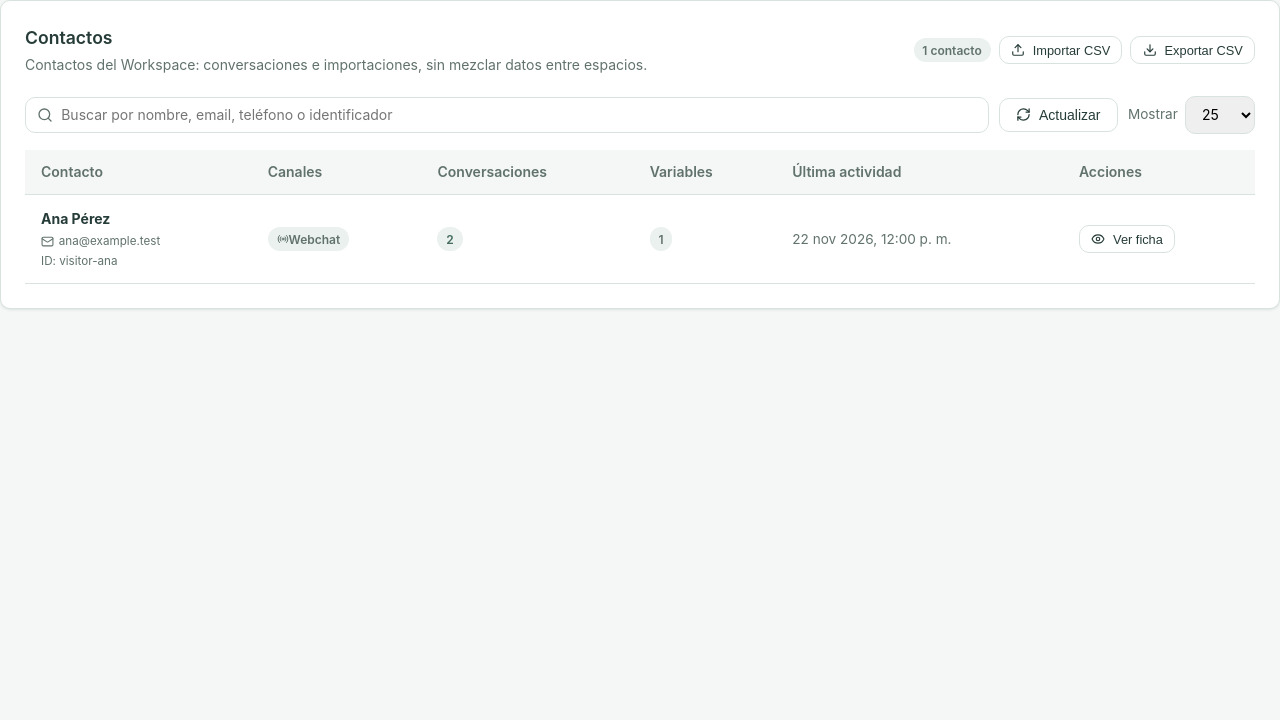
Scenario: ContactDirectoryView › lists contacts and opens the read-only profile
The width and height of the screenshot is (1280, 720).
expect the text "Ana Pérez" is shown: met, box [41, 210, 110, 227]
expect the text "Webchat" is shown: met, box [268, 228, 349, 251]
Click the button "Ver ficha" at (1127, 239), box [1079, 225, 1175, 253]
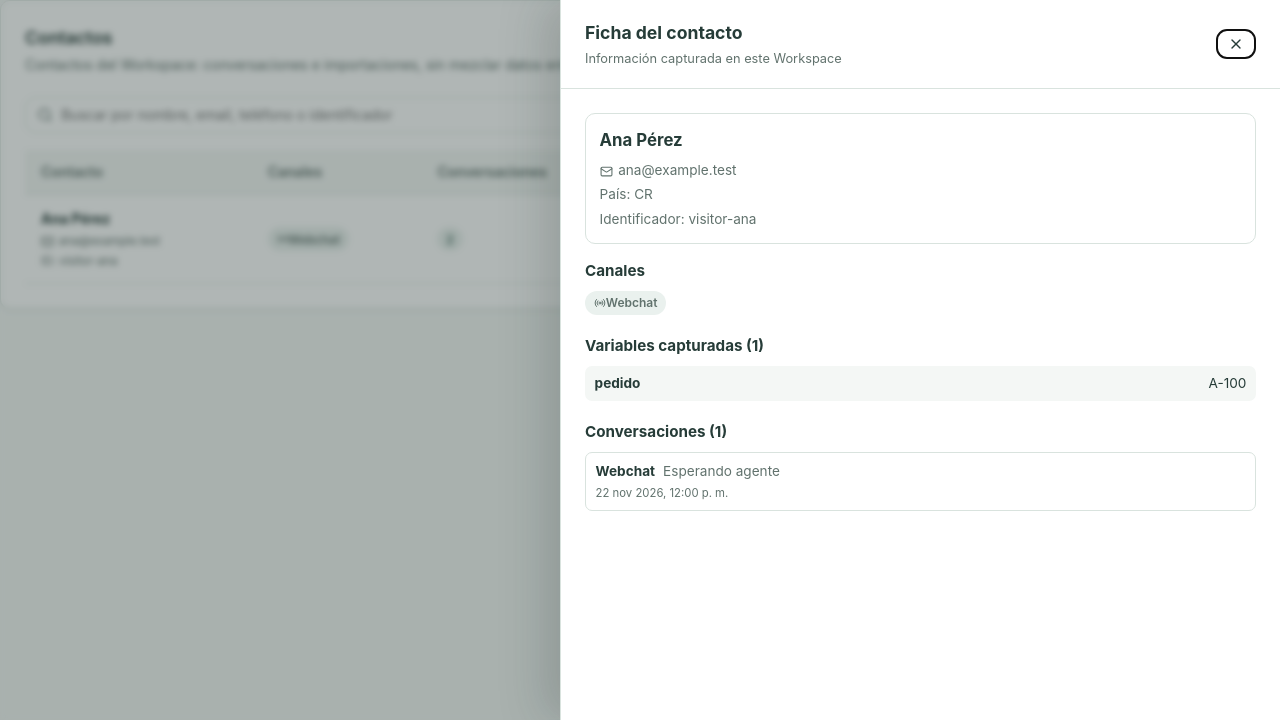
expect the heading "Ficha del contacto" is shown: met, box [585, 22, 742, 43]
expect the text "pedido" is shown: met, box [595, 374, 640, 393]
expect the text "A-100" is shown: met, box [1208, 374, 1246, 393]
Press Escape
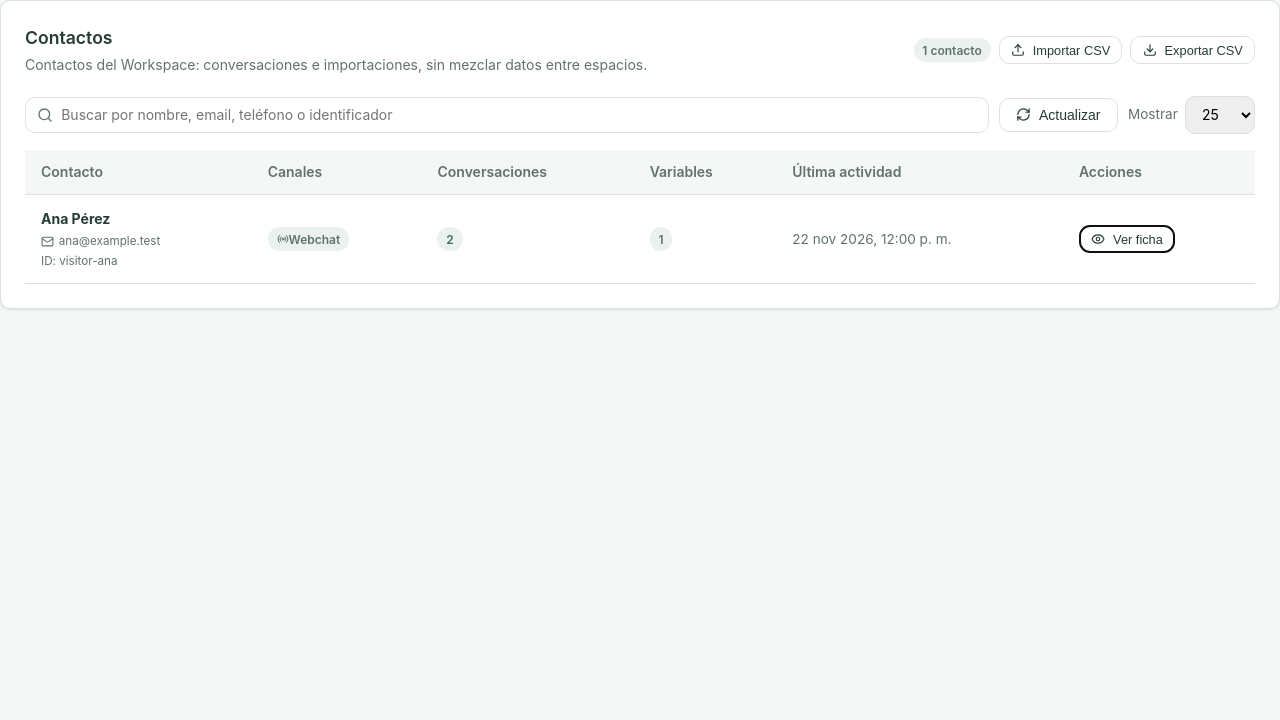
expect the heading "Ficha del contacto" is gone: met
